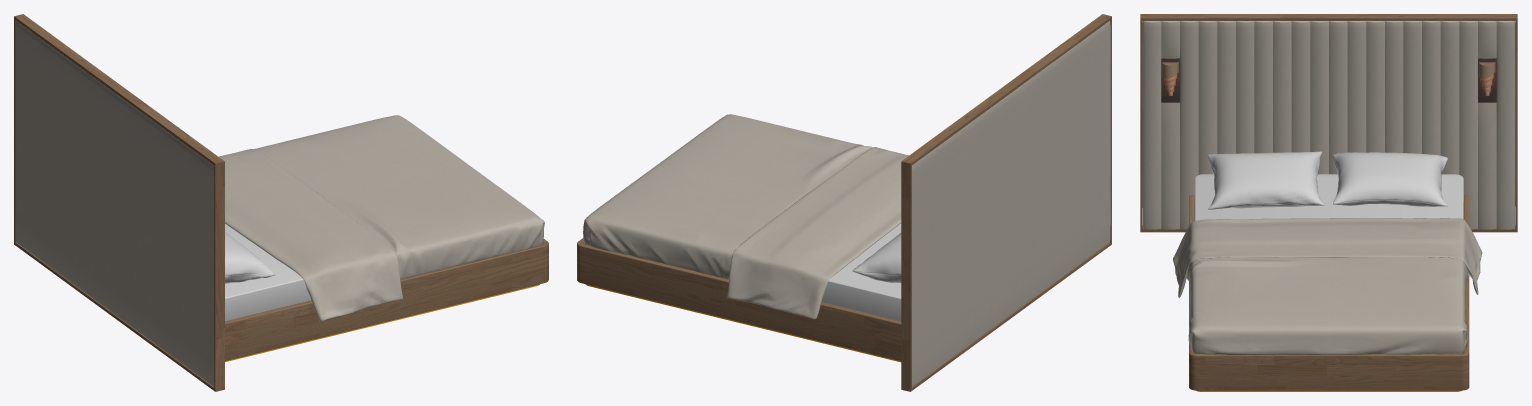
3 views of the same model, side by side, from view 1: azimuth 30°, elevation 25°; view 2: azimuth 150°, elevation 25°; view 3: azimuth 270°, elevation 25° (orthographic). The views are drawn at different scales.
Parts seen in each view (by area): view 1: Object_7, Object_6, Object_2, Object_8, Object_5; view 2: Object_7, Object_6, Object_2, Object_8, Object_5; view 3: Object_7, Object_6, Object_8, Object_2, Object_3, Object_4, Object_5.
Part boxes in pixels (x1,y1,x2,y2): Object_7: (15,21,214,386); Object_6: (219,115,544,321); Object_2: (14,14,548,391); Object_8: (225,223,311,321); Object_5: (225,284,540,361); Object_7: (912,21,1110,386); Object_6: (583,114,908,319); Object_2: (577,14,1111,391); Object_8: (821,223,901,321); Object_5: (586,284,901,362); Object_7: (1142,21,1515,229); Object_6: (1173,218,1482,354); Object_8: (1194,151,1463,220); Object_2: (1140,14,1517,390); Object_3: (1161,58,1496,102); Object_4: (1162,62,1495,95); Object_5: (1196,390,1461,391).
Bounding box in the file's own units: 8.17 × 4.94 × 7.87.
Materials: 6 (4 with a texture image).
